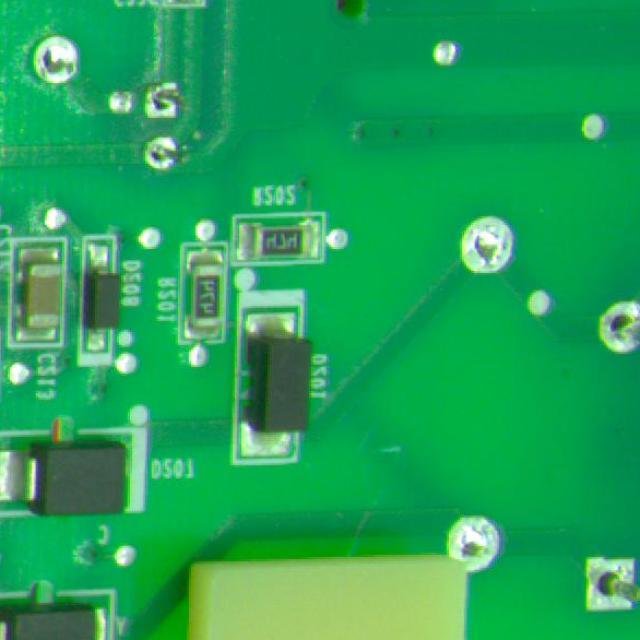oppostie_direction: (461, 216, 514, 273), (449, 516, 502, 573), (585, 558, 640, 611), (599, 301, 640, 353), (34, 36, 79, 83), (145, 82, 179, 118), (145, 136, 177, 170)
